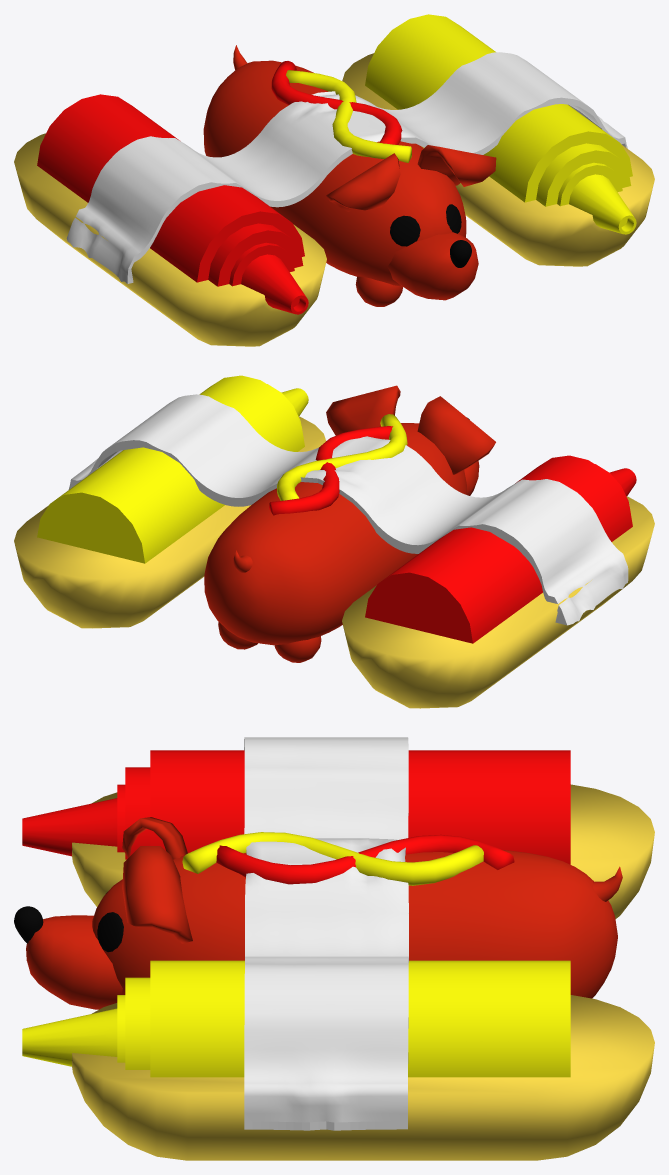
The model's file is LaserDog2_01.FBX.
3 views of the same model, one above another, from view 1: azimuth 30°, elevation 25°; view 2: azimuth 150°, elevation 25°; view 3: azimuth 270°, elevation 25° (orthographic). The views are drawn at different scales.
Visible parts, largest first — view 1: Cloth, Ketchup, Mustard, Body, Bun_R, Bun_L, Muzzle, MustardLine, Ear_R, Ear_L, KetchupLine, Paw_FrontR (+2 smaller); view 2: Cloth, Body, Mustard, Ketchup, Bun_R, Bun_L, Ear_R, KetchupLine, Ear_L, MustardLine, Paw_BackR; view 3: Cloth, Bun_L, Mustard, Ketchup, Body, Bun_R, Muzzle, MustardLine, Ear_L, KetchupLine, Ear_R, Eye_L (+1 smaller).
Part boxes in pixels (x1,y1,x2,y2): Cloth: (66, 52, 627, 283); Ketchup: (37, 94, 308, 314); Mustard: (365, 14, 636, 234); Body: (203, 60, 466, 286); Bun_R: (14, 133, 326, 346); Bun_L: (342, 53, 654, 266); Muzzle: (387, 232, 478, 300); MustardLine: (286, 70, 411, 162); Ear_R: (326, 153, 400, 211); Ear_L: (417, 145, 496, 186); KetchupLine: (271, 61, 402, 144); Paw_FrontR: (355, 276, 402, 306); Cloth: (68, 394, 628, 625); Body: (204, 423, 466, 645); Mustard: (37, 375, 308, 563); Ketchup: (365, 455, 636, 643); Bun_R: (342, 496, 654, 708); Bun_L: (14, 416, 325, 628); Ear_R: (417, 396, 495, 474); KetchupLine: (269, 426, 392, 515); Ear_L: (326, 385, 400, 435); MustardLine: (277, 414, 407, 500); Paw_BackR: (274, 636, 321, 662); Cloth: (244, 737, 408, 1130); Bun_L: (72, 995, 654, 1160); Mustard: (22, 960, 570, 1077); Ketchup: (22, 750, 570, 864); Body: (92, 850, 617, 998); Bun_R: (72, 784, 654, 918); Muzzle: (26, 915, 122, 1009); MustardLine: (182, 832, 483, 885); Ear_L: (122, 846, 192, 943); KetchupLine: (216, 834, 514, 884); Ear_R: (122, 817, 187, 859); Eye_L: (97, 912, 123, 952).
Bounding box in the file's own units: 934 × 286 × 782.
